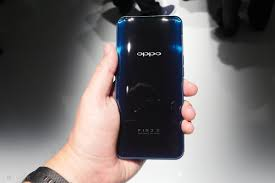oppo: (113, 14, 186, 163)
